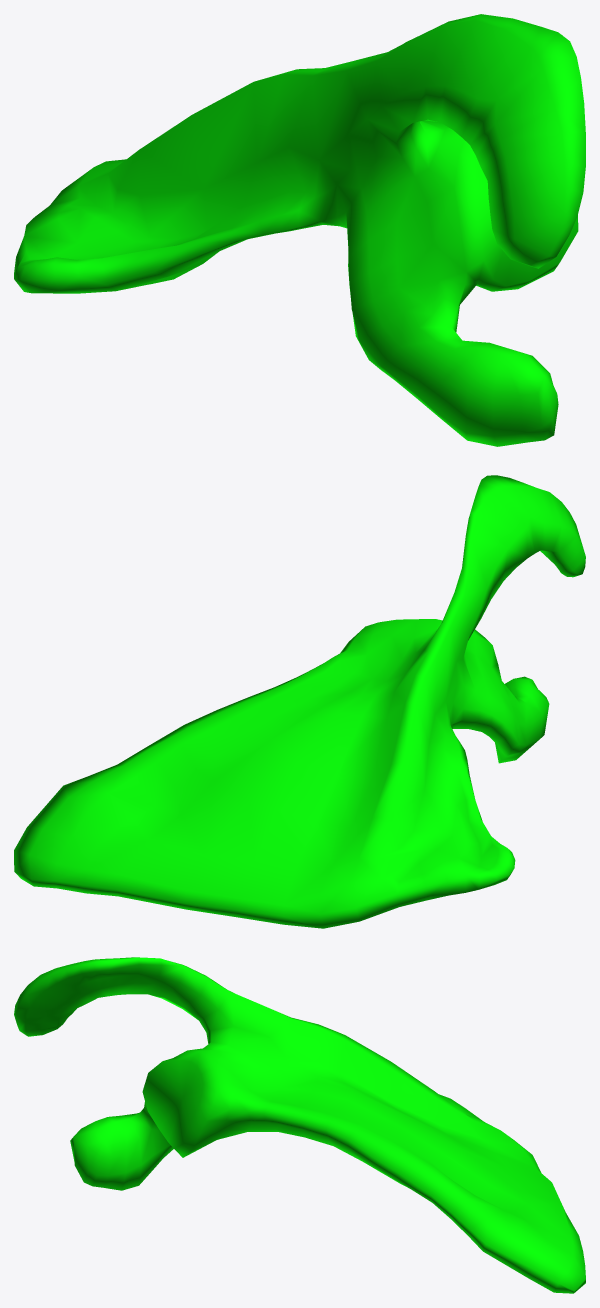
Rendered from SM_L_Scapula.FBX.
3 renders of one model, top to bottom at view 1: azimuth 30°, elevation 25°; view 2: azimuth 150°, elevation 25°; view 3: azimuth 270°, elevation 25°, orthographic. The views are drawn at different scales.
Visible parts, largest first — view 1: L_Scapula; view 2: L_Scapula; view 3: L_Scapula.
Boxes of the visible parts, x1,y1,x2,y2 form: L_Scapula: (14, 14, 585, 446); L_Scapula: (14, 475, 585, 928); L_Scapula: (14, 957, 585, 1293).
Size of the model in its own units: 13.3 by 8.14 by 17.55.
